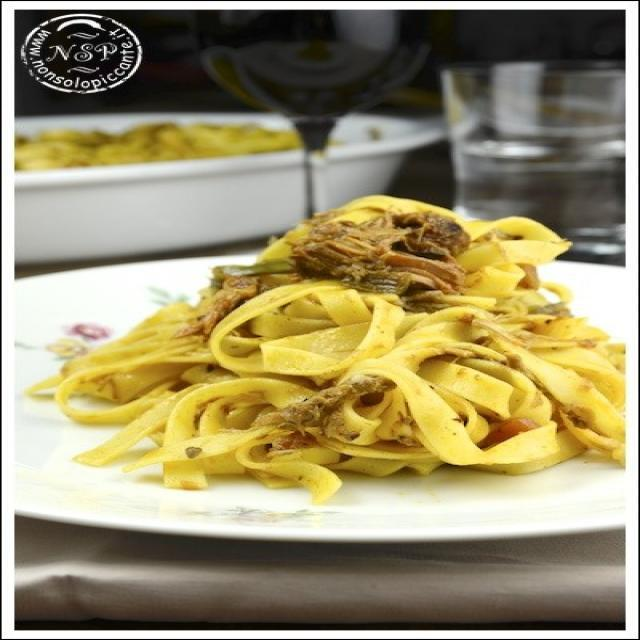Pasta al ragu: (53, 158, 627, 518)
